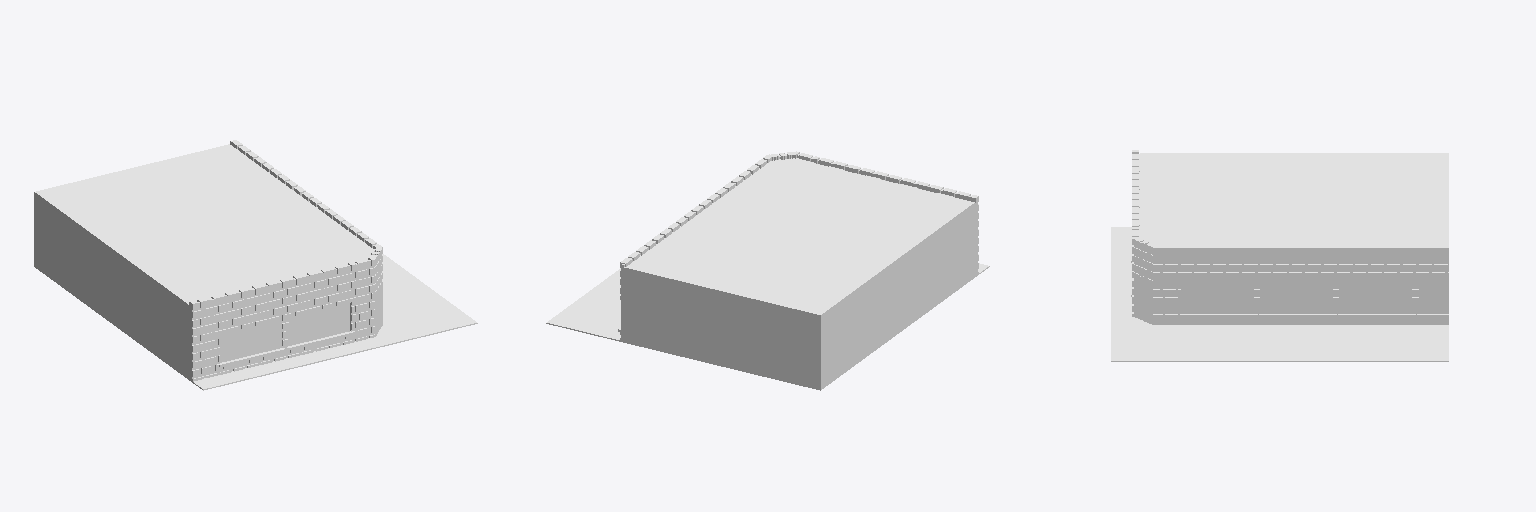
Rendered from ExtraBuildings1.obj.
3 views of the same model, side by side, from view 1: azimuth 30°, elevation 25°; view 2: azimuth 150°, elevation 25°; view 3: azimuth 270°, elevation 25° (orthographic).
Visible parts, largest first — view 1: object 1; view 2: object 1; view 3: object 1.
Part boxes in pixels (x1,y1,x2,y2): object 1: (34, 140, 477, 390); object 1: (546, 151, 989, 390); object 1: (1111, 150, 1448, 361).
Size of the model in its own units: 24 by 6.6 by 25.6.